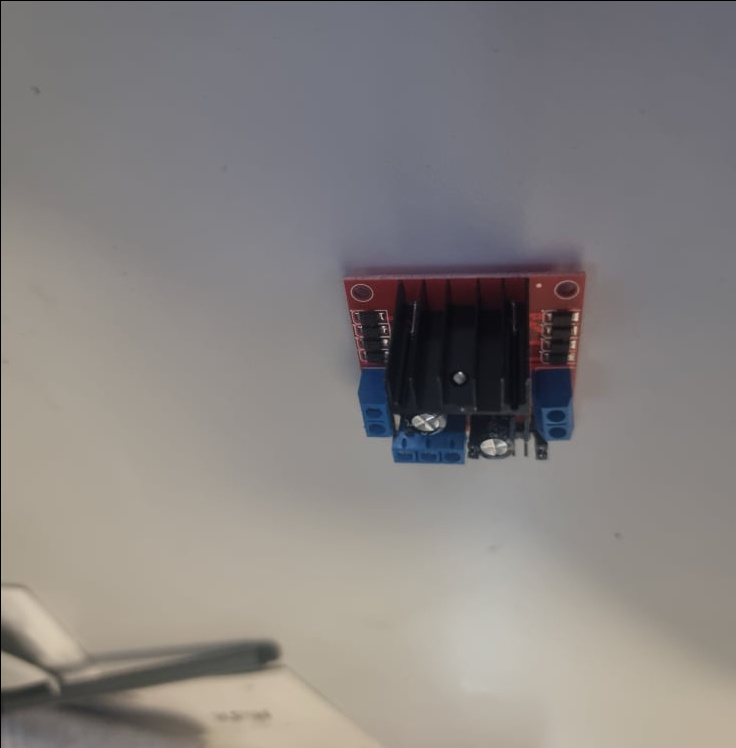MOTOR: (342, 269, 583, 468)
